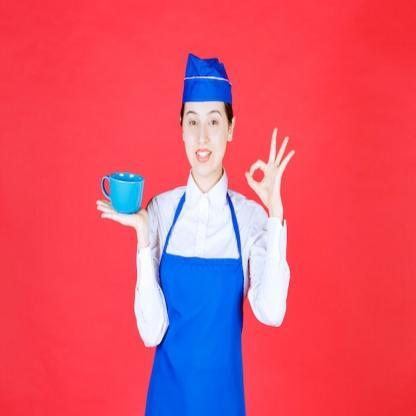ok: (242, 124, 299, 219)
